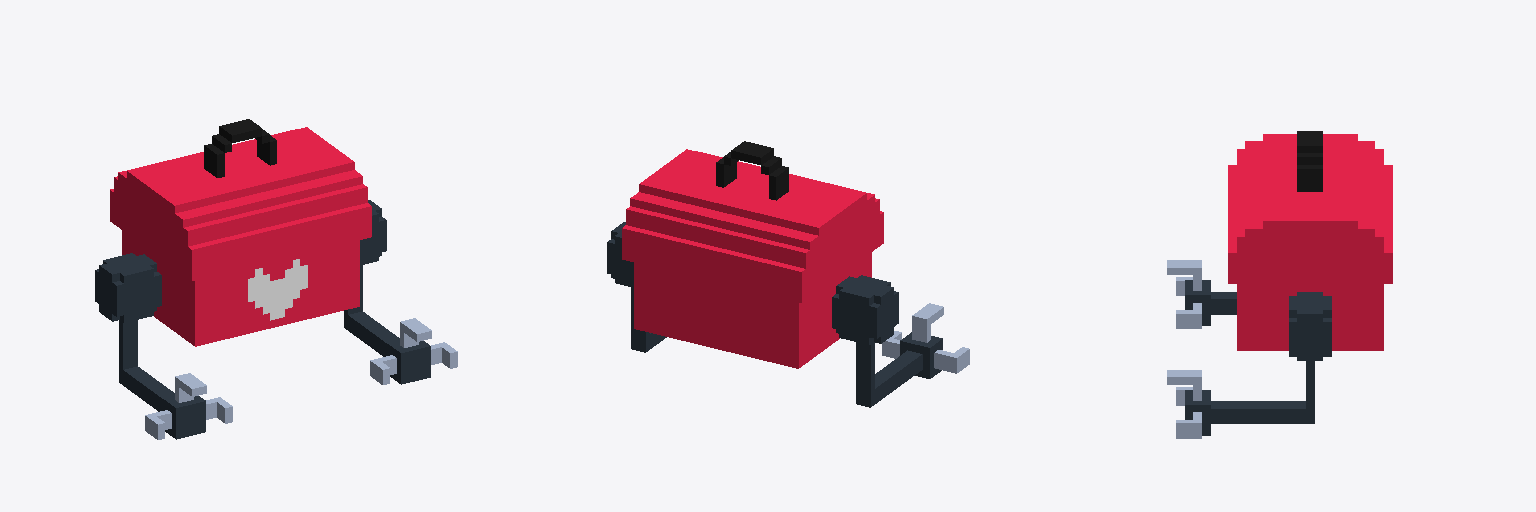
The picture shows the model from 3 angles: view 1: azimuth 30°, elevation 25°; view 2: azimuth 150°, elevation 25°; view 3: azimuth 270°, elevation 25°; orthographic projection.
Visible parts, largest first — view 1: object 1; view 2: object 1; view 3: object 1.
Part boxes in pixels (bbox=[...]): object 1: bbox=[95, 119, 457, 439]; object 1: bbox=[607, 141, 969, 407]; object 1: bbox=[1167, 131, 1392, 438].
Bounding box in the file's own units: 4 × 3 × 2.6.
1 materials, 1 textured.